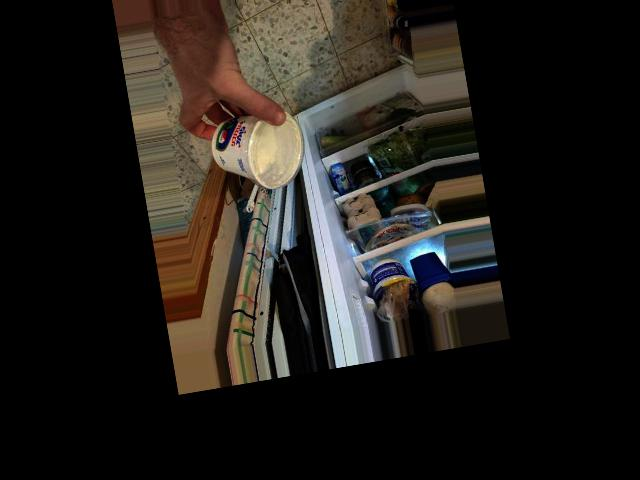cotage: (205, 103, 301, 193)
